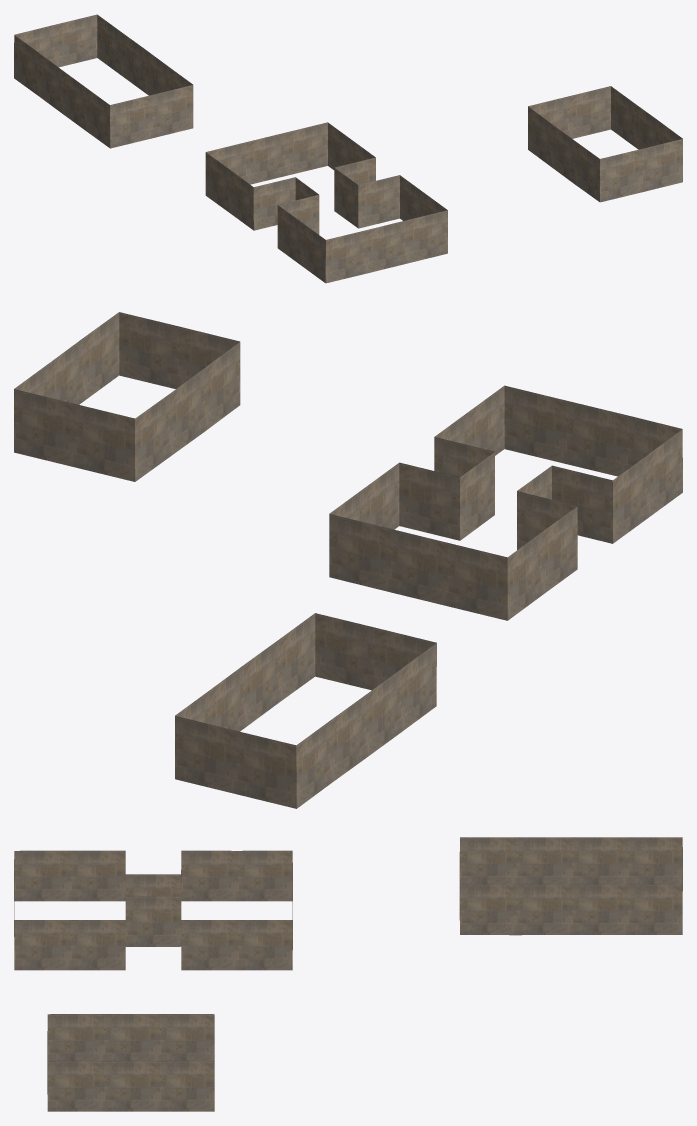
The model's file is SM_Wall_1.fbx.
3 renders of one model, top to bottom at view 1: azimuth 30°, elevation 25°; view 2: azimuth 150°, elevation 25°; view 3: azimuth 270°, elevation 25°, orthographic. The views are drawn at different scales.
Visible parts, largest first — view 1: Object_1492.001; view 2: Object_1492.001; view 3: Object_1492.001.
Part boxes in pixels (bbox=[...]): Object_1492.001: bbox=[14, 14, 682, 283]; Object_1492.001: bbox=[14, 312, 682, 808]; Object_1492.001: bbox=[14, 837, 682, 1111].
Bounding box in the file's own units: 19.02 × 2 × 24.02.
1 material, 1 textured.
